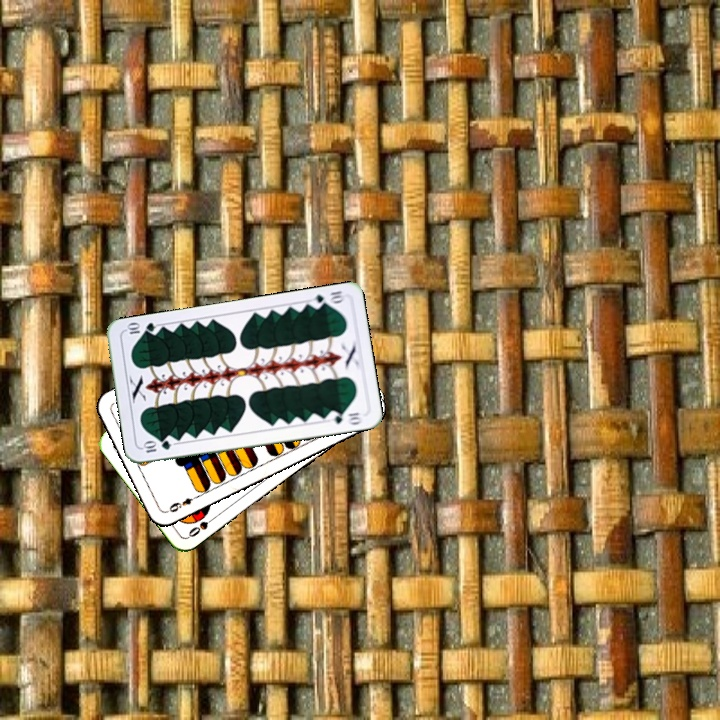E9: (164, 491, 202, 515)
G10: (306, 286, 347, 311), (139, 437, 174, 455)
SO: (184, 511, 219, 540)
